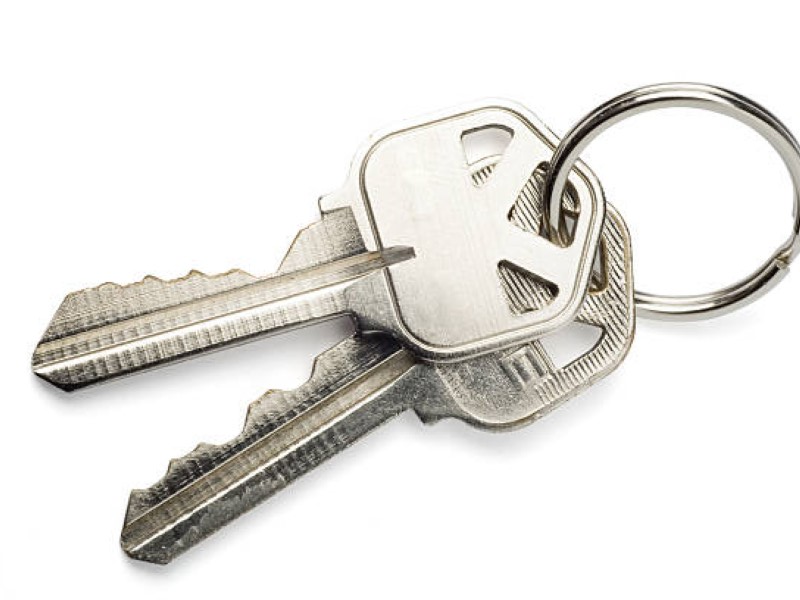key: (26, 83, 612, 401)
